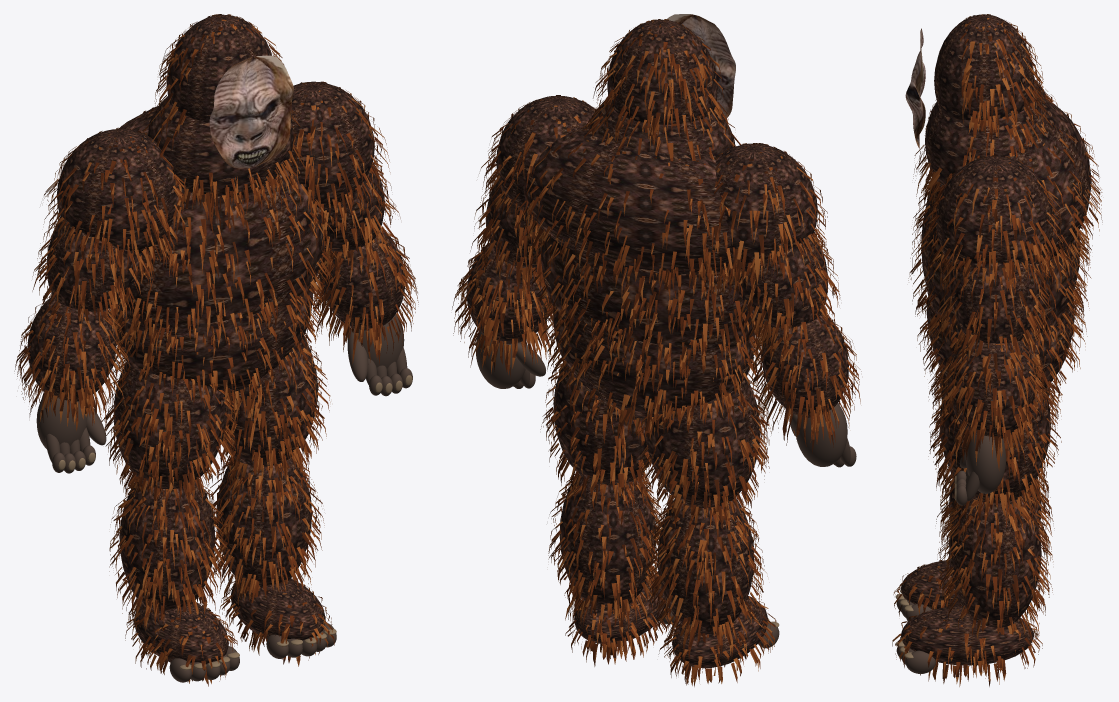
File: yowie-placement.glb
The picture shows the model from 3 angles, left to right: view 1: azimuth 30°, elevation 25°; view 2: azimuth 150°, elevation 25°; view 3: azimuth 270°, elevation 25°; orthographic projection.
Parts seen in each view (by area): view 1: BellbrookYowieBody; view 2: BellbrookYowieBody; view 3: BellbrookYowieBody.
Part boxes in pixels (x1,y1,x2,y2): BellbrookYowieBody: [14, 14, 418, 686]; BellbrookYowieBody: [452, 14, 861, 686]; BellbrookYowieBody: [892, 14, 1102, 686].
Size of the model in its own units: 1.22 by 1.9 by 0.5717.
Materials: 12 (2 with a texture image).
